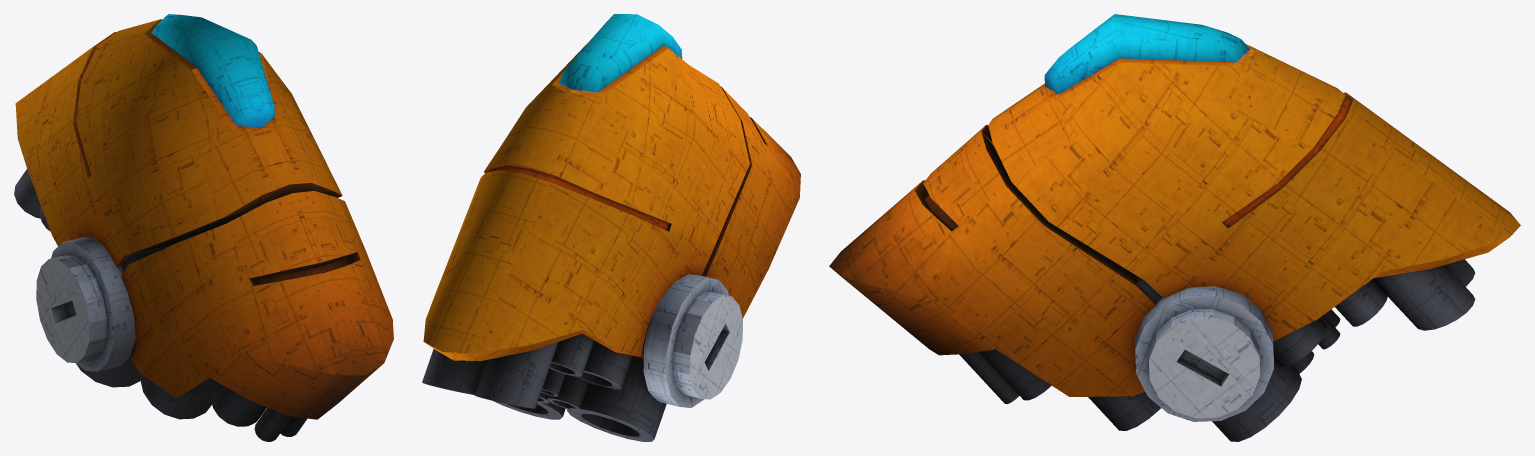
File: MonsterA_die1.obj
3 renders of one model, left to right at view 1: azimuth 30°, elevation 25°; view 2: azimuth 150°, elevation 25°; view 3: azimuth 270°, elevation 25°, orthographic. The views are drawn at different scales.
Parts seen in each view (by area): view 1: Box001; view 2: Box001; view 3: Box001.
Part boxes in pixels (x1=…): Box001: x1=14, y1=14, x2=393, y2=441; Box001: x1=422, y1=14, x2=800, y2=441; Box001: x1=829, y1=14, x2=1520, y2=441.
Bounding box in the file's own units: 114 × 166 × 266.
Materials: 1 (1 with a texture image).
